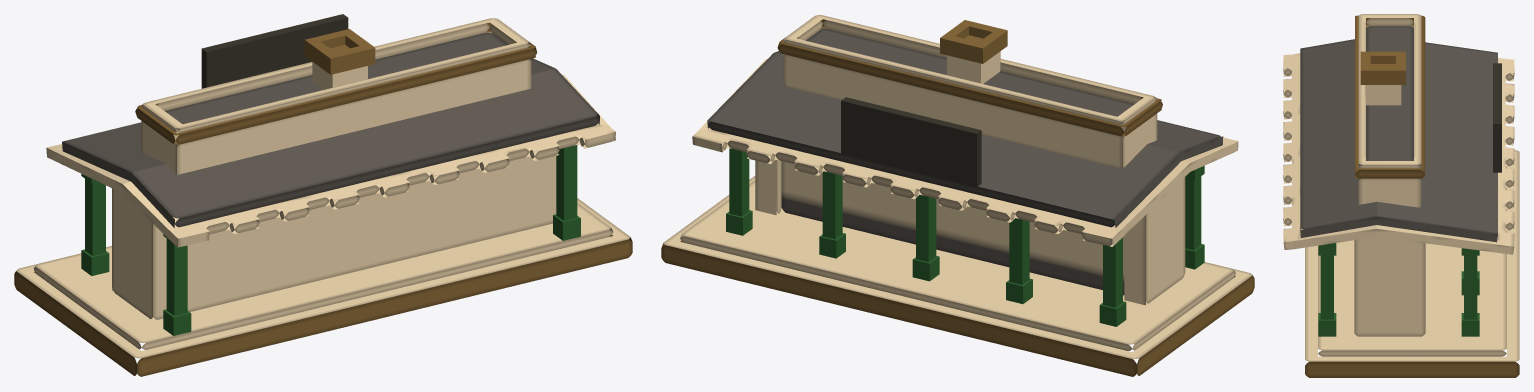
Rendered from station_fromt.obj.
The picture shows the model from 3 angles, left to right: view 1: azimuth 30°, elevation 25°; view 2: azimuth 150°, elevation 25°; view 3: azimuth 270°, elevation 25°; orthographic projection. The views are drawn at different scales.
Visible parts, largest first — view 1: mesh; view 2: mesh; view 3: mesh.
Part boxes in pixels (<box>): mesh: <box>14,14,632,376</box>; mesh: <box>661,15,1254,376</box>; mesh: <box>1283,14,1519,377</box>.
Size of the model in its own units: 3.5 by 1.62 by 1.65.
6 materials, 6 textured.
